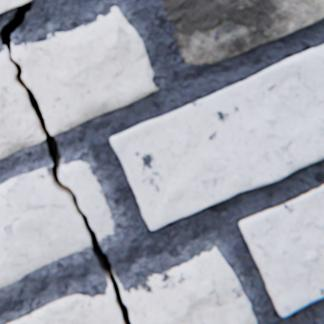brick: (110, 44, 323, 229), (238, 184, 323, 315), (161, 0, 323, 65), (0, 0, 31, 13)
broken_brick: (11, 6, 158, 134), (0, 163, 90, 286), (116, 245, 255, 323), (6, 279, 122, 323), (0, 47, 44, 158), (59, 160, 113, 239)
crack: (0, 1, 131, 323)
